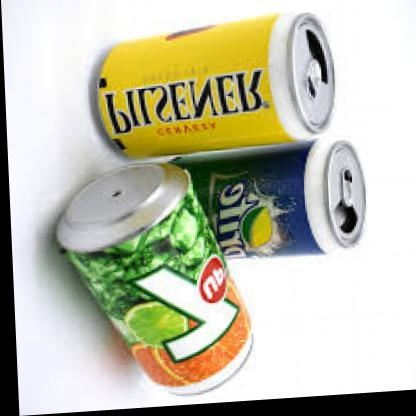trash: (57, 164, 251, 393), (96, 14, 333, 157), (186, 139, 365, 255)
